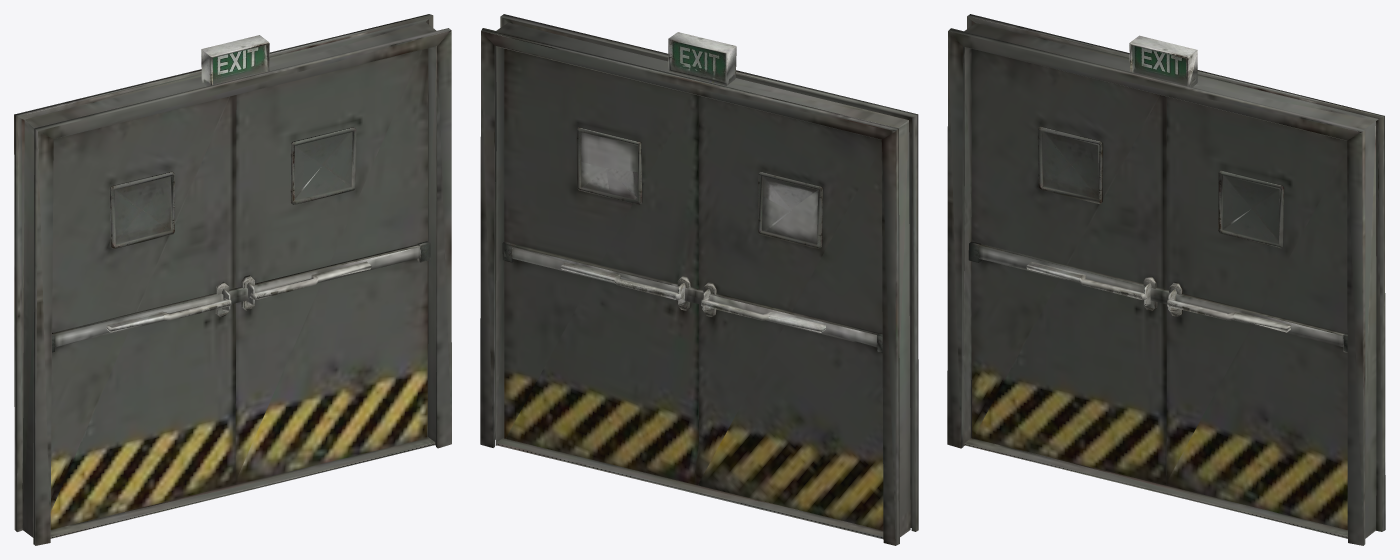
Rendered from exit_door.glb.
3 views of the same model, side by side, from view 1: azimuth 30°, elevation 25°; view 2: azimuth 150°, elevation 25°; view 3: azimuth 330°, elevation 25° (orthographic).
Size of the model in its own units: 0.9839 by 1 by 0.096.
Materials: 1 (1 with a texture image).
